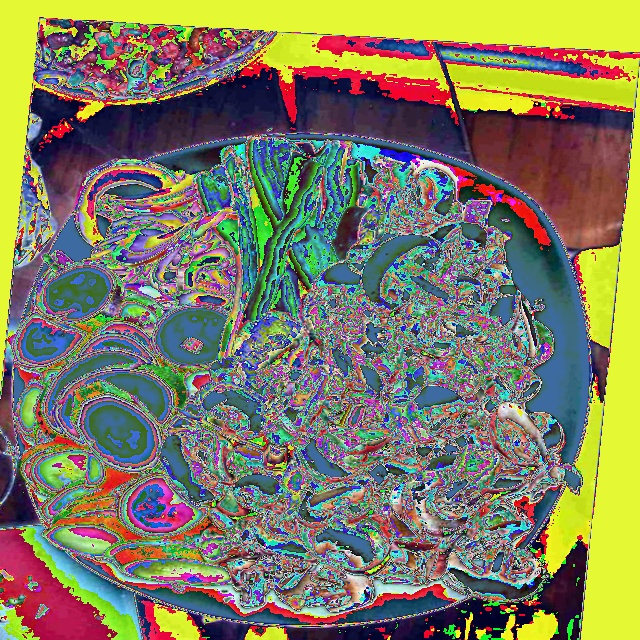background: (9, 136, 582, 612), (38, 19, 259, 98)
